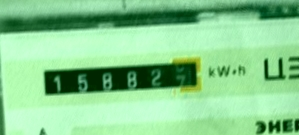1: (50, 71, 63, 91)
2: (149, 66, 162, 85)
5: (75, 70, 88, 91)
7: (174, 72, 186, 86)
8: (100, 69, 113, 90), (125, 68, 138, 89)
screen: (34, 50, 211, 102)
